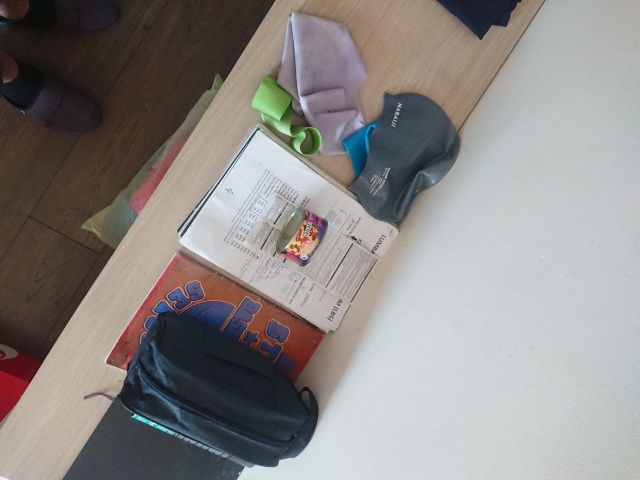Giana Tuna Salad Mexico 185g: (274, 205, 330, 269)
